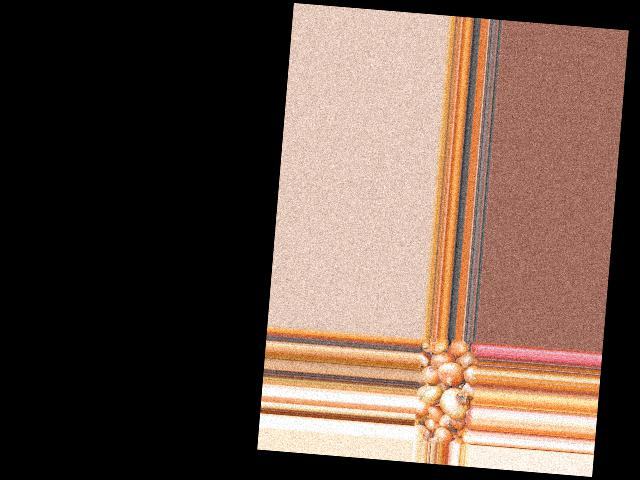onion: (421, 364, 441, 384)
